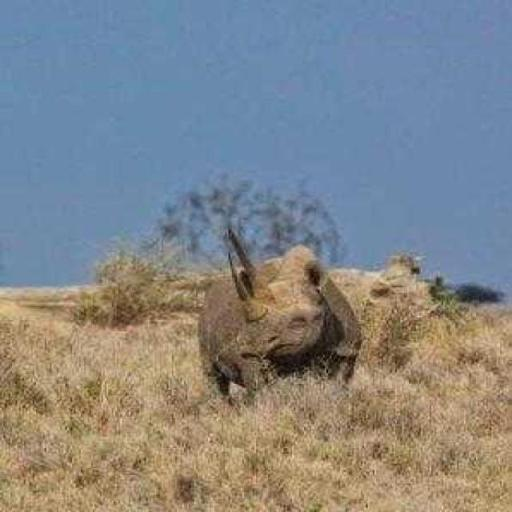Rhino: (196, 226, 362, 407)
